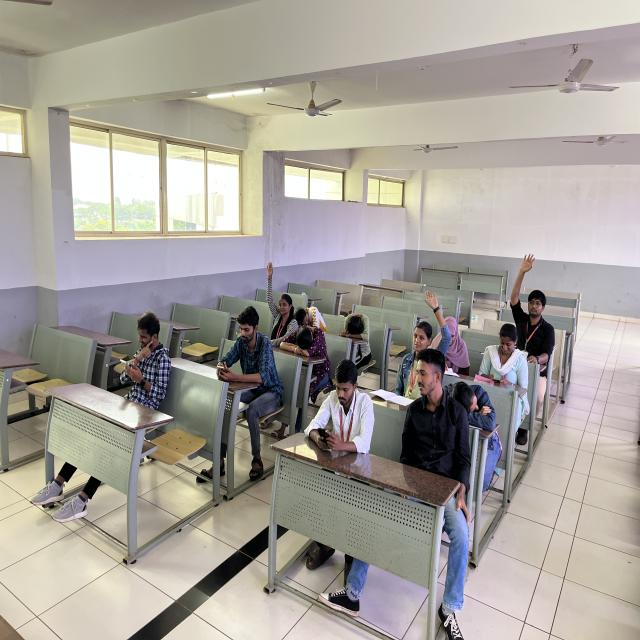Hand Rising: (392, 283, 452, 395), (508, 251, 555, 357), (259, 258, 304, 345)
Sleeping: (441, 370, 512, 449), (278, 321, 331, 371), (335, 307, 377, 358), (290, 301, 333, 338)
Using Phone: (300, 356, 380, 463), (209, 302, 285, 402), (112, 310, 172, 405), (476, 321, 538, 398)
